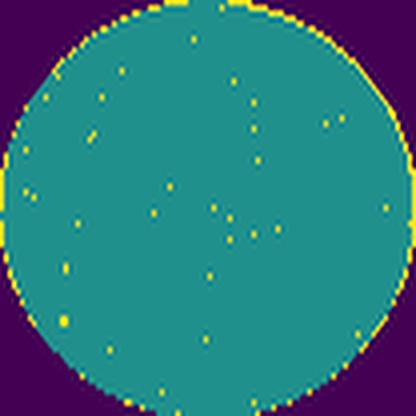Edge-Ring: (226, 0, 416, 358)
